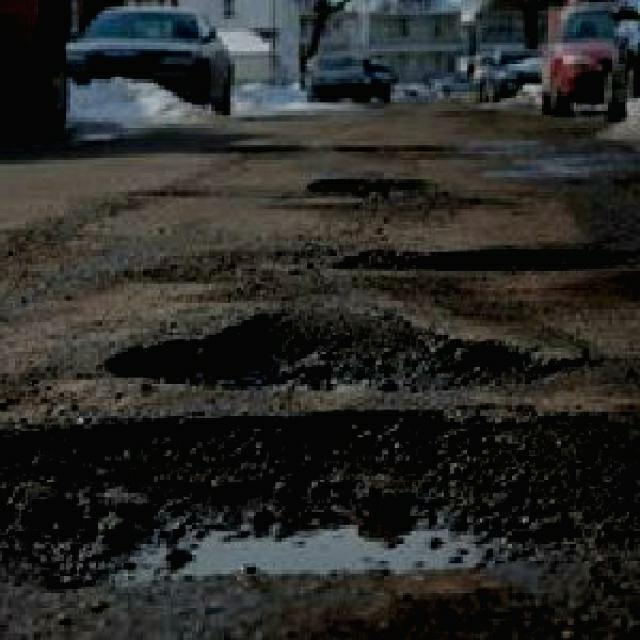Pothole: (2, 407, 640, 610), (105, 305, 595, 395), (329, 237, 638, 273), (307, 171, 442, 203)
